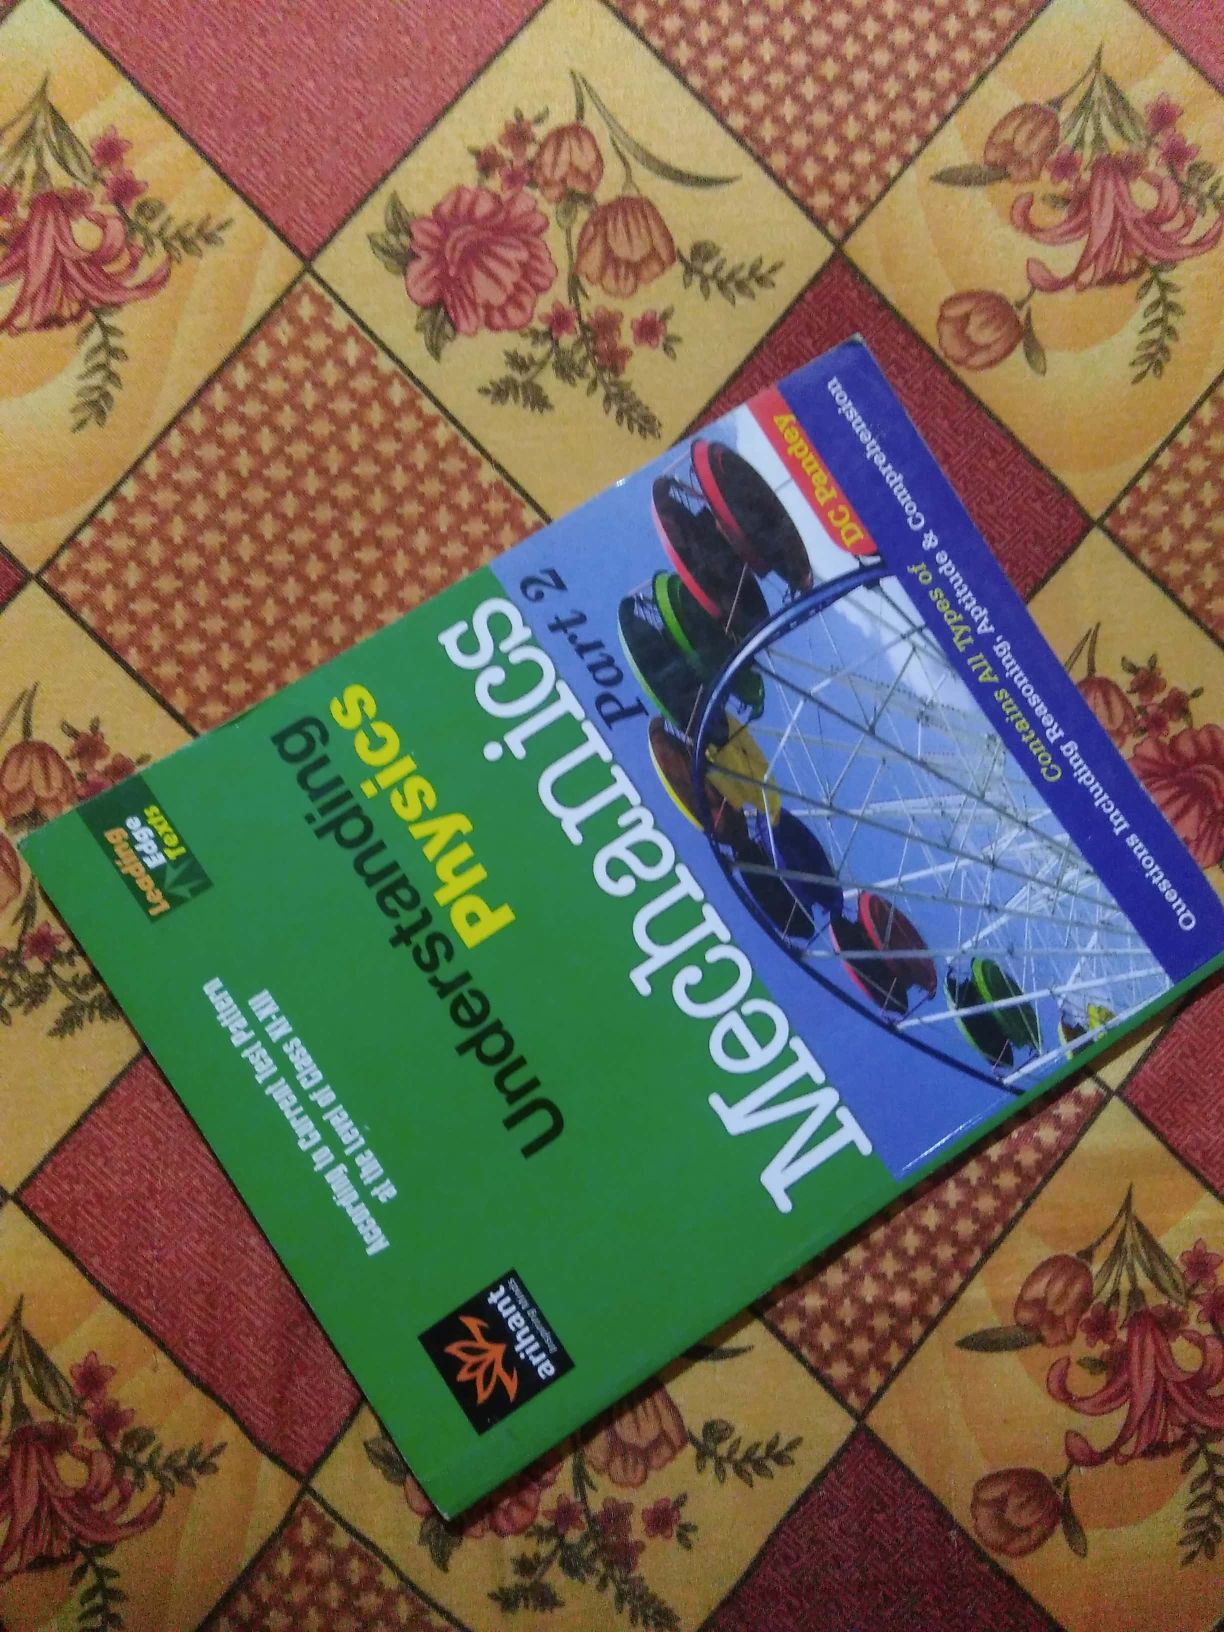mechanics: (71, 397, 1167, 1471)
